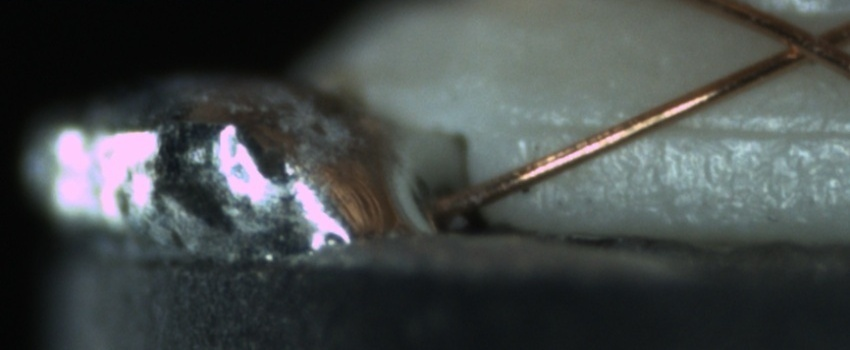CL: (764, 13, 846, 72)
DL: (521, 100, 847, 160)
